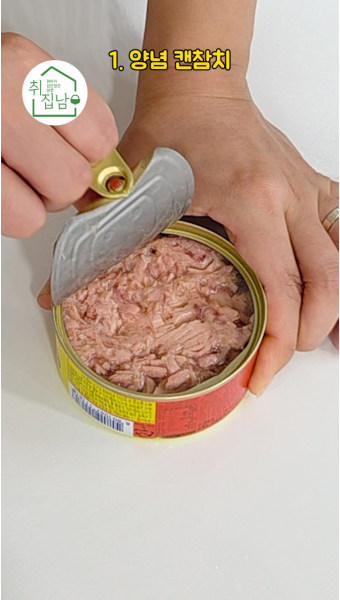paper: (28, 149, 262, 441)
